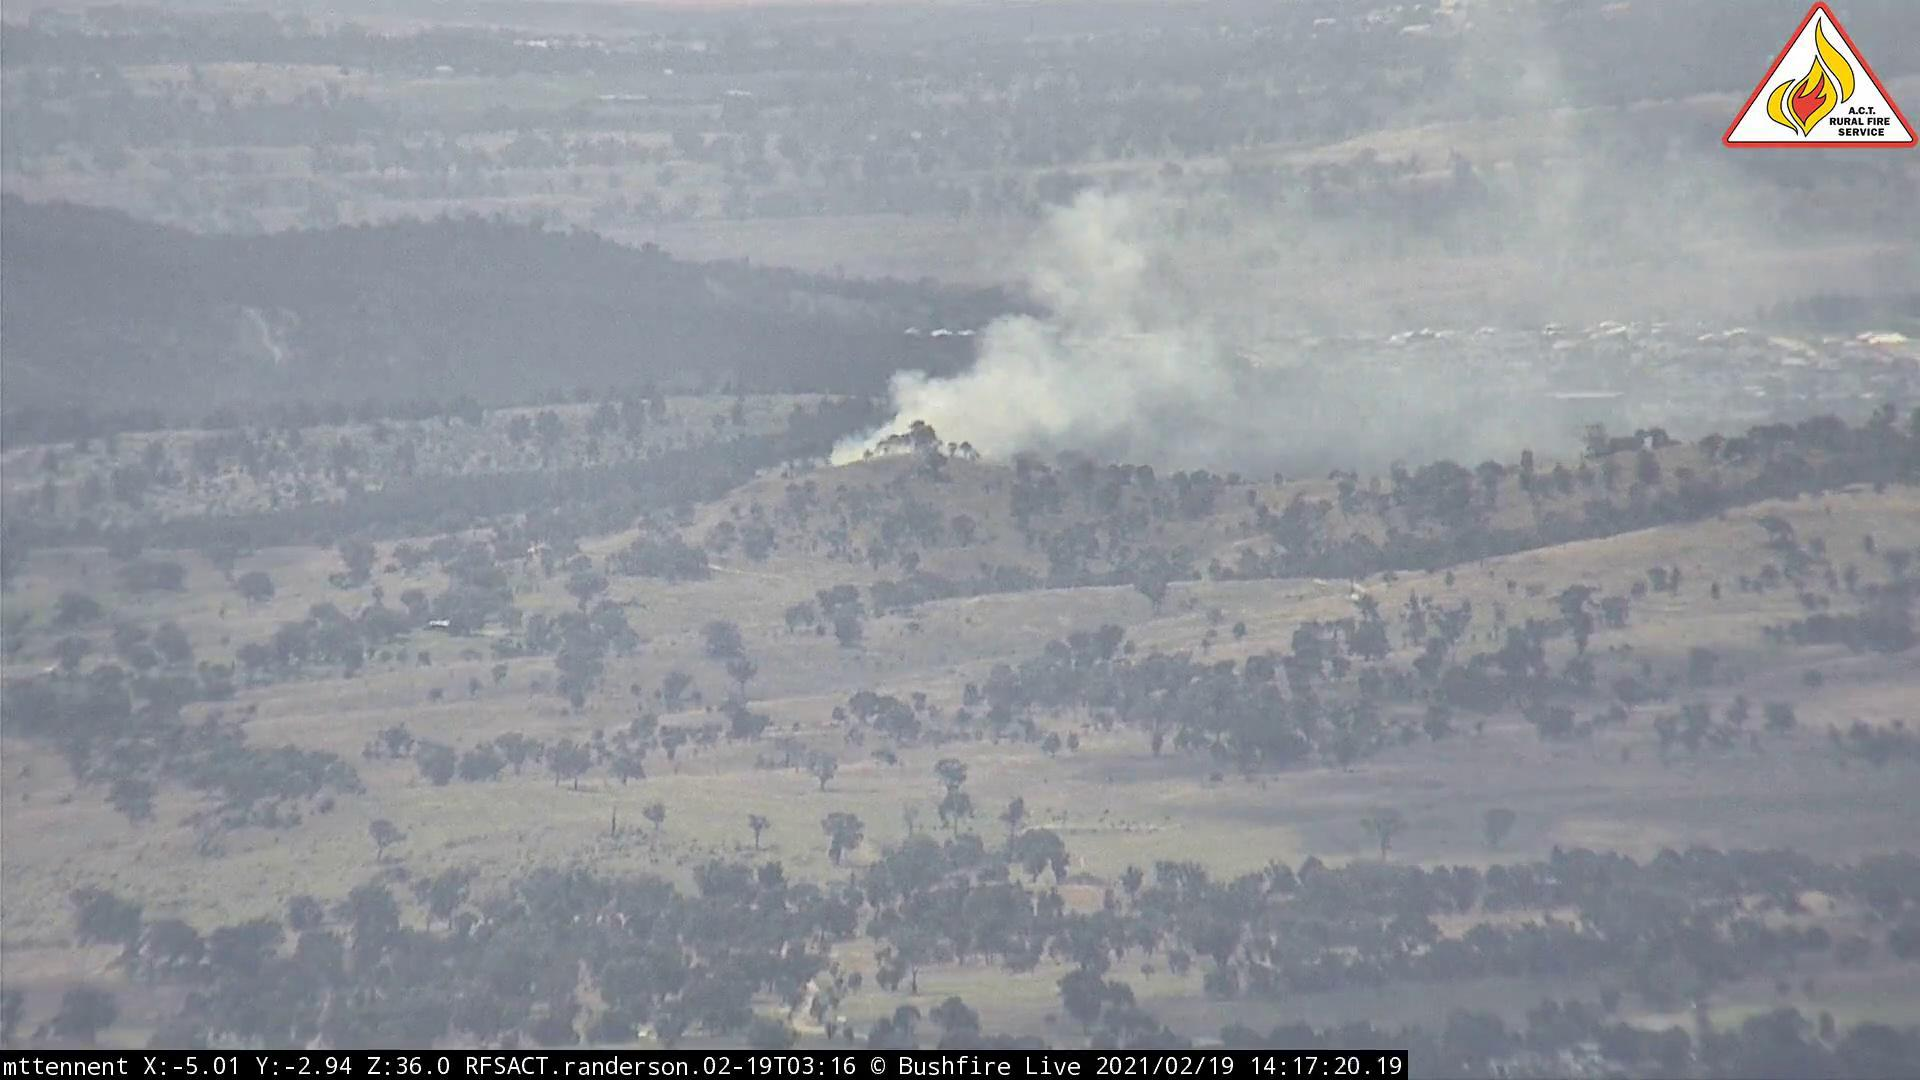Smoke: (820, 105, 1538, 495)
